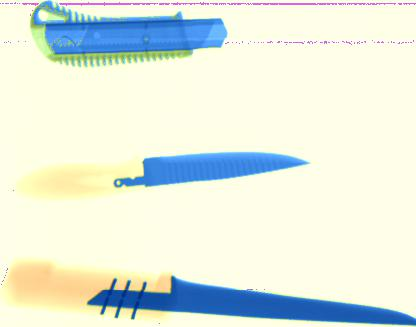Knife: (2, 256, 416, 327), (12, 152, 310, 201)
